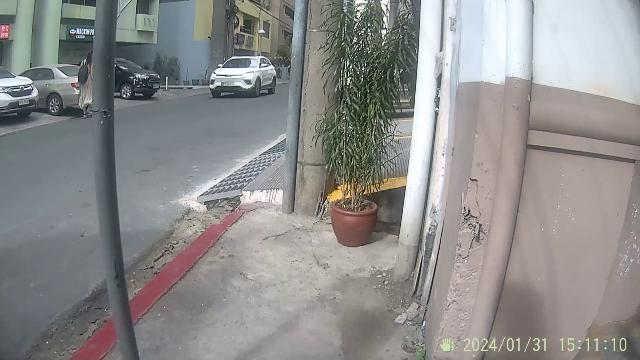potted_plant: (329, 0, 379, 248)
utility_post: (88, 0, 164, 358), (281, 0, 326, 220)
